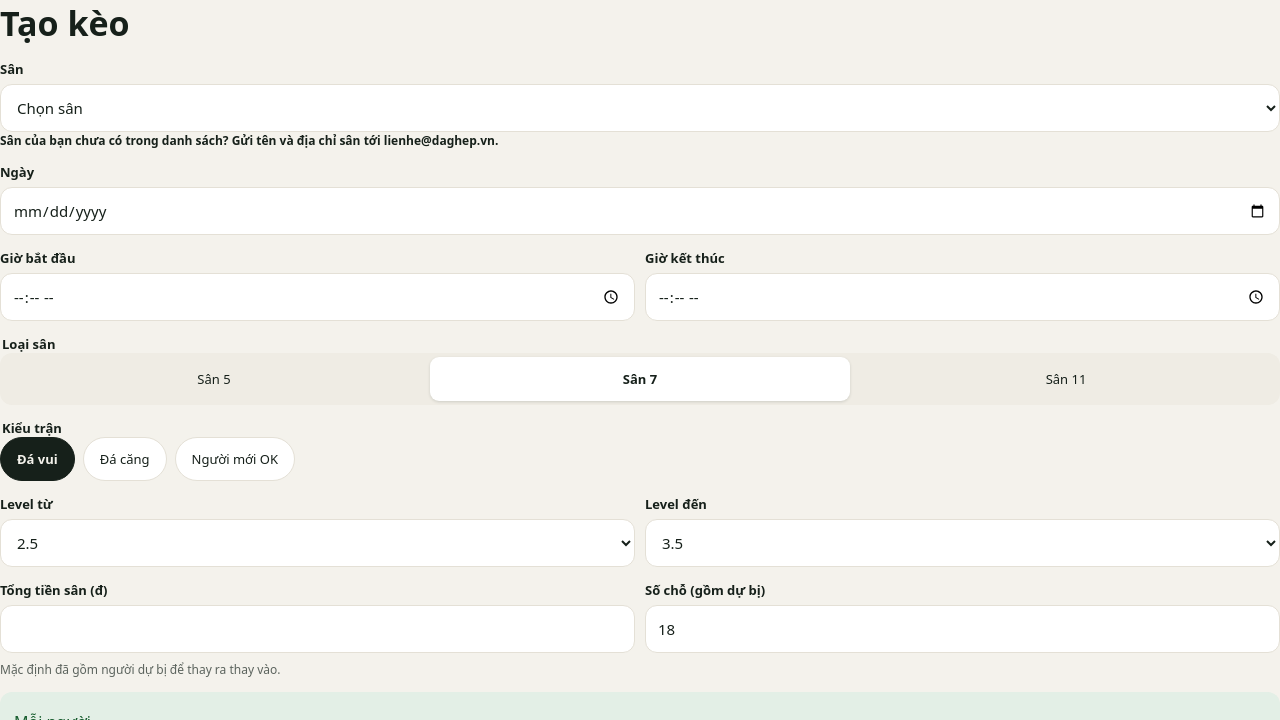
Test case: CreateMatchForm › shows the message for the field the server rejected
Select "SSA Sports Center (Amitie Thảo Điền)" in the dropdown labelled "Sân" at (640, 108), box [0,84,1279,132]
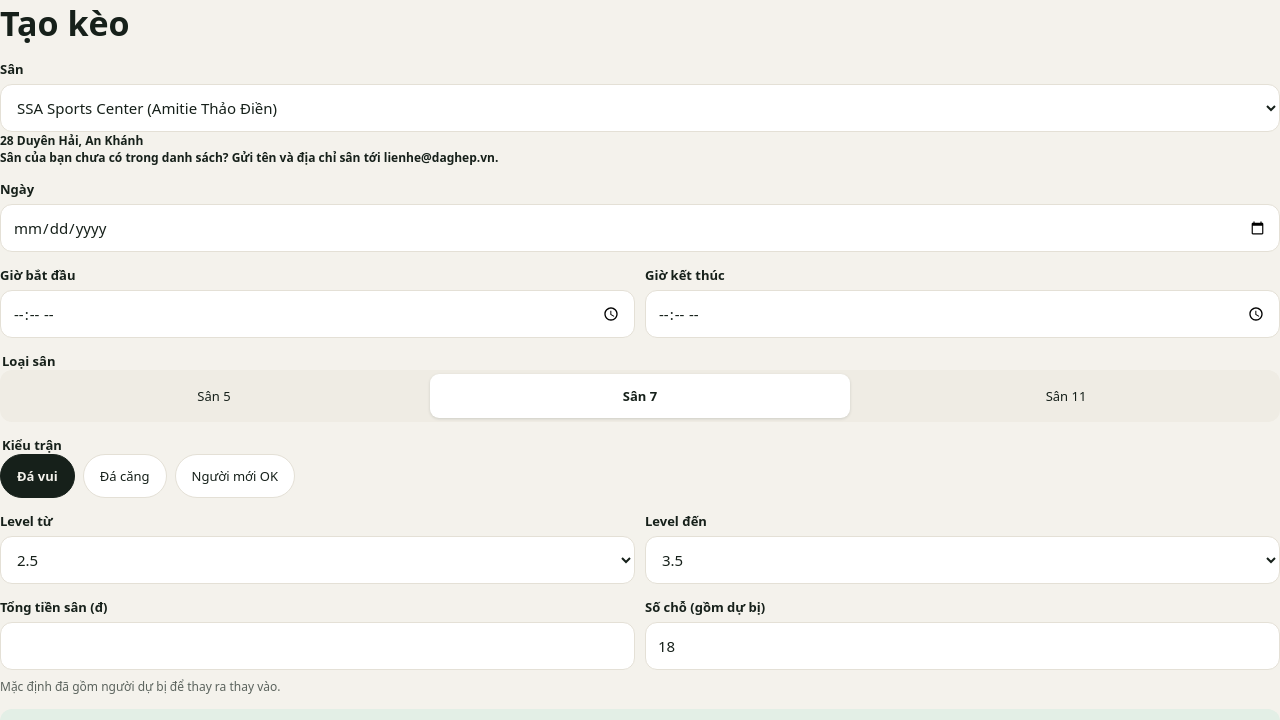
Type "2099-10-10" into the date field labelled "Ngày" at (640, 228), box [0,204,1279,252]
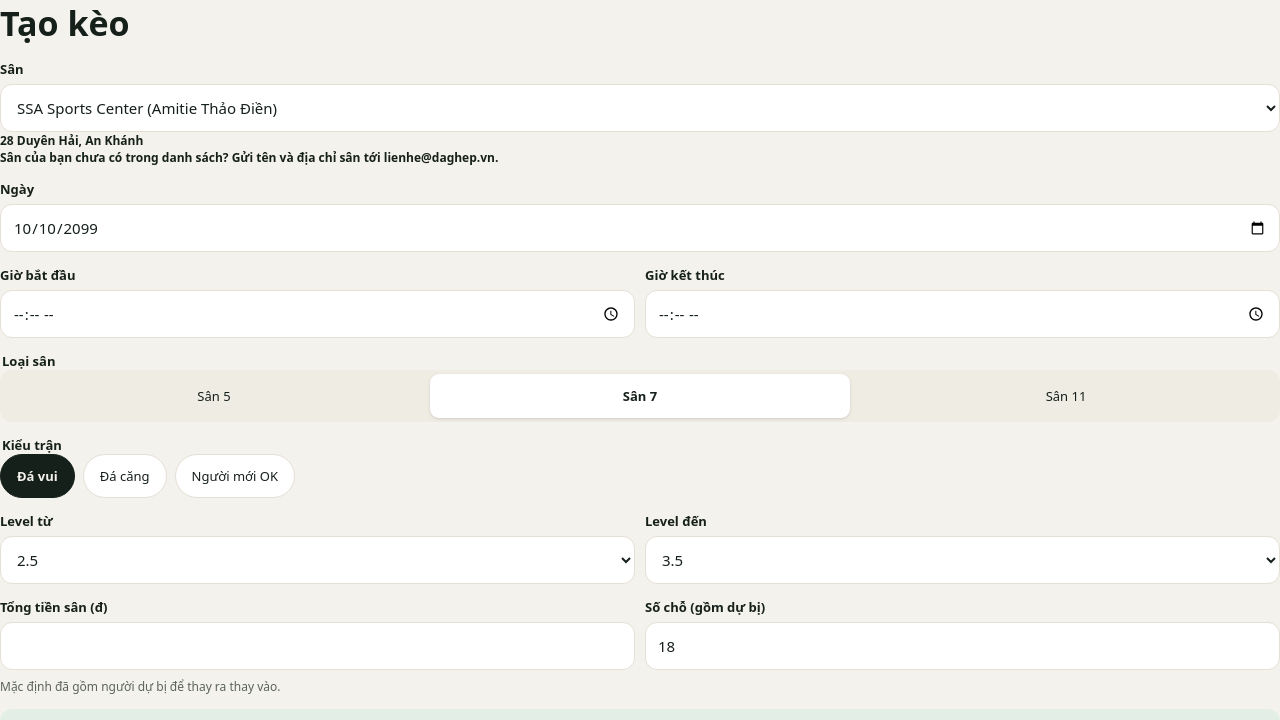
Type "18:30" into the time field labelled "Giờ bắt đầu" at (318, 314), box [0,290,635,338]
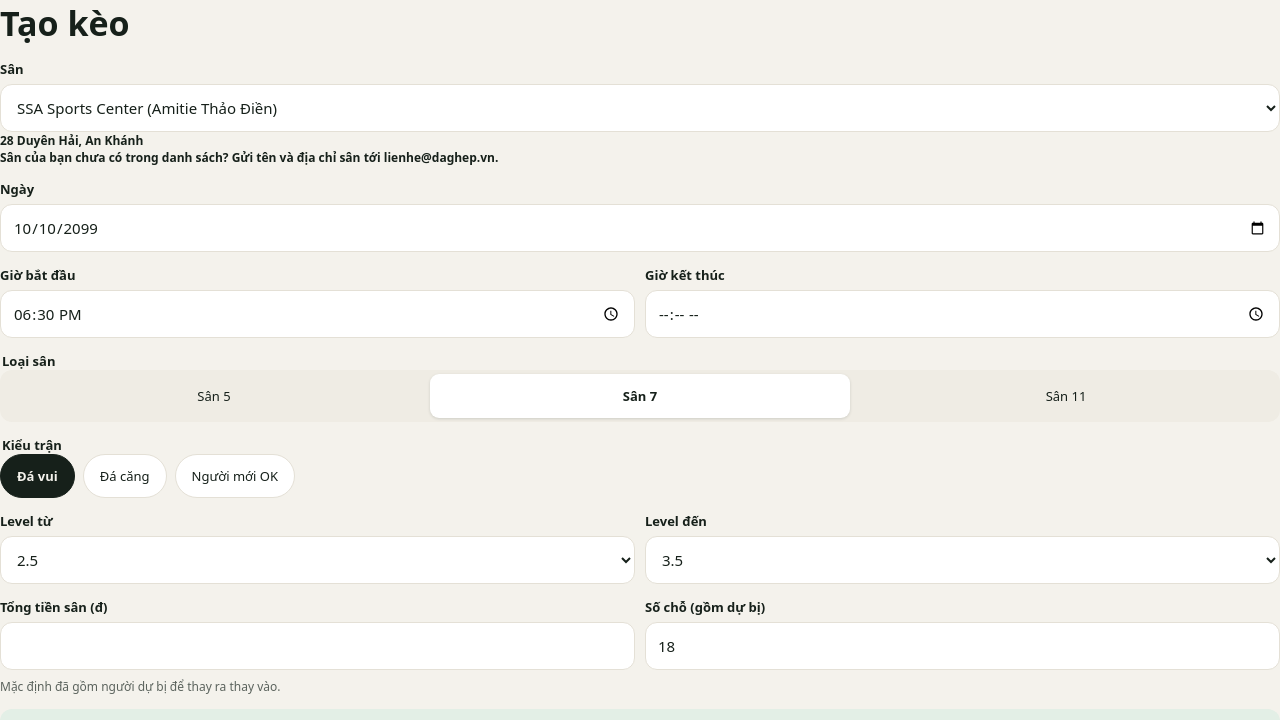
Type "20:00" into the time field labelled "Giờ kết thúc" at (962, 314), box [645,290,1279,338]
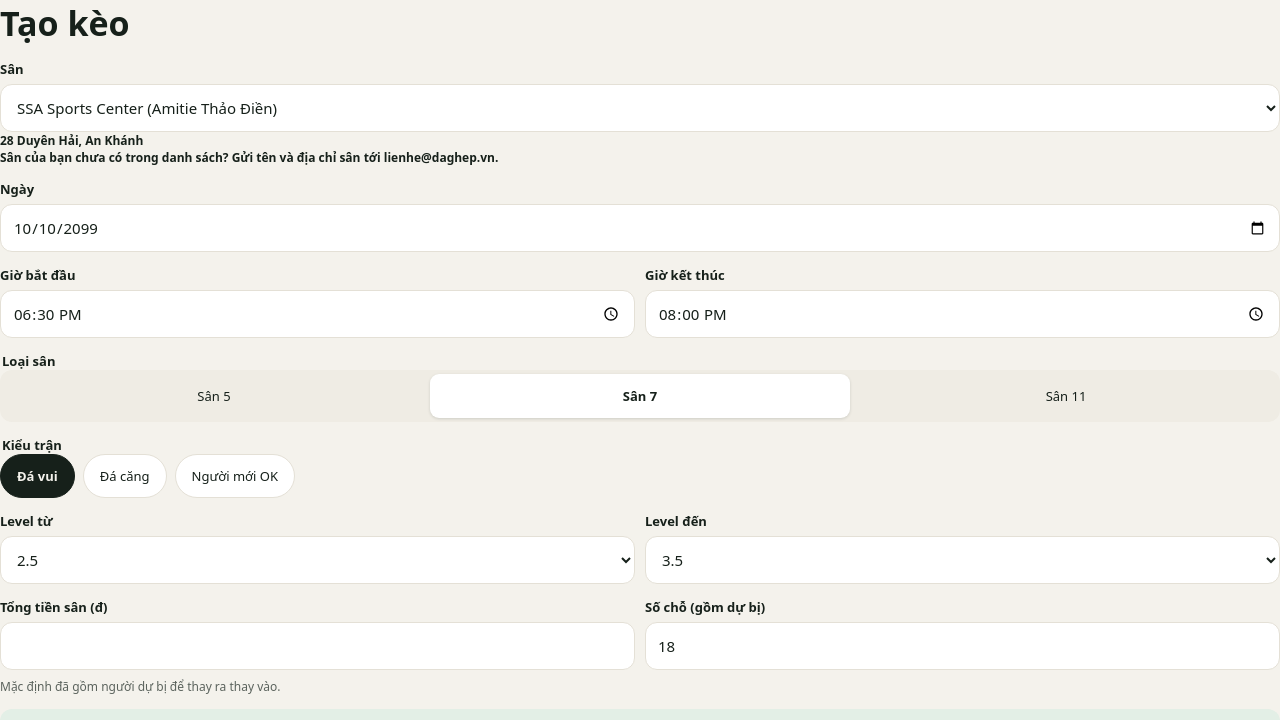
Type "900000" into the number field labelled "Tổng tiền sân (đ)" at (318, 646), box [0,622,635,670]
(page scrolled)
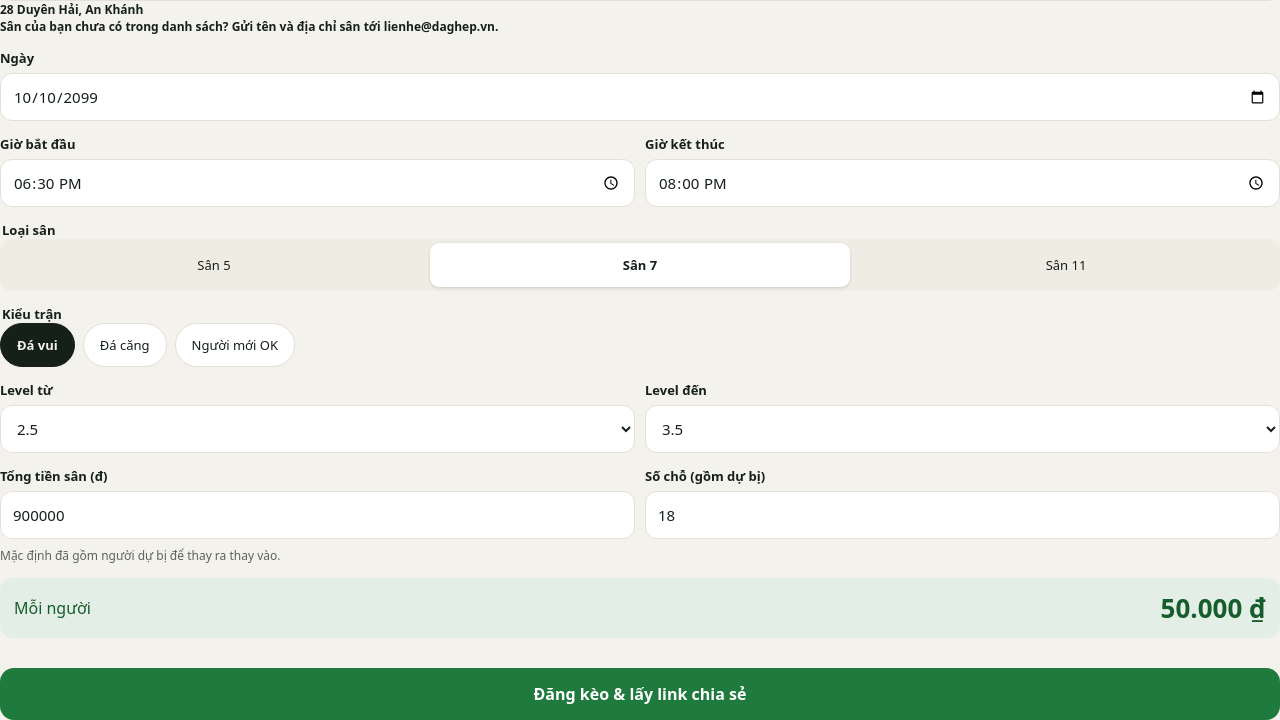
Click the button "Đăng kèo & lấy link chia sẻ" at (640, 694), box [0,668,1279,719]
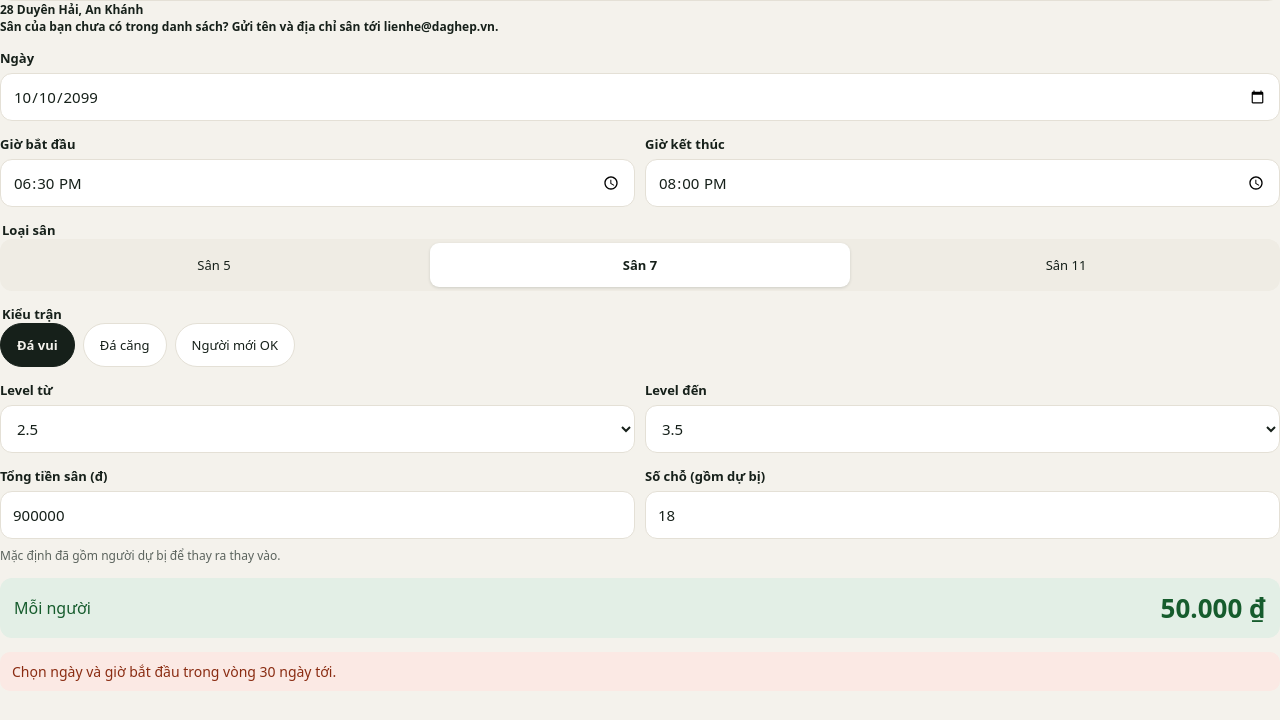
expect the message reads "Chọn ngày và giờ bắt đầu trong vòng 30 ngày tới.": met, box [12,662,336,681]
